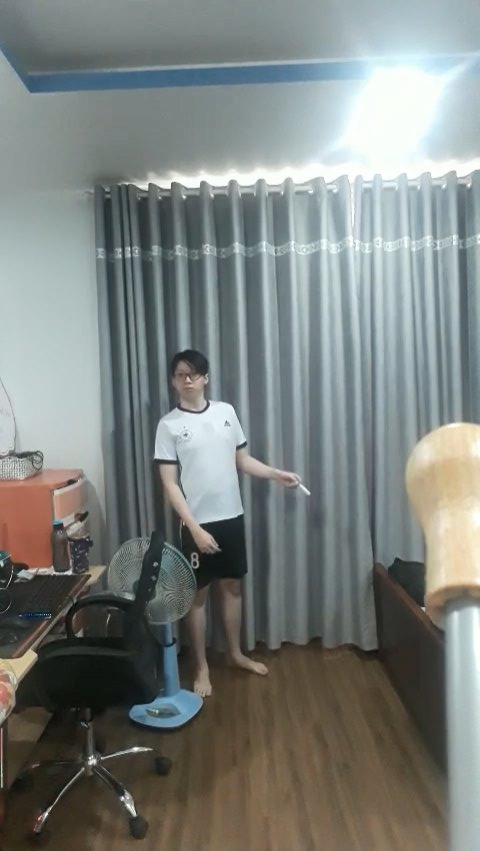cigarette: (298, 481, 315, 500)
person: (149, 343, 301, 704)
